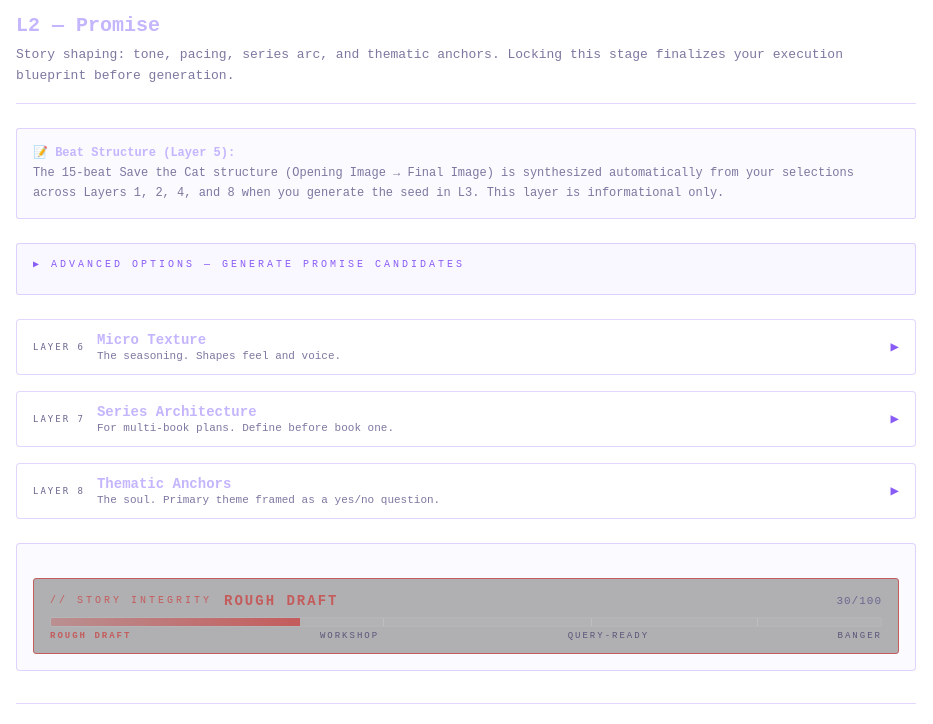
Test: L2Promise › generates and displays promise candidates when button clicked
Open advanced options
Click the text "▶ ADVANCED OPTIONS — GENERATE PROMISE CANDIDATES" at (249, 264), box [33, 259, 465, 270]
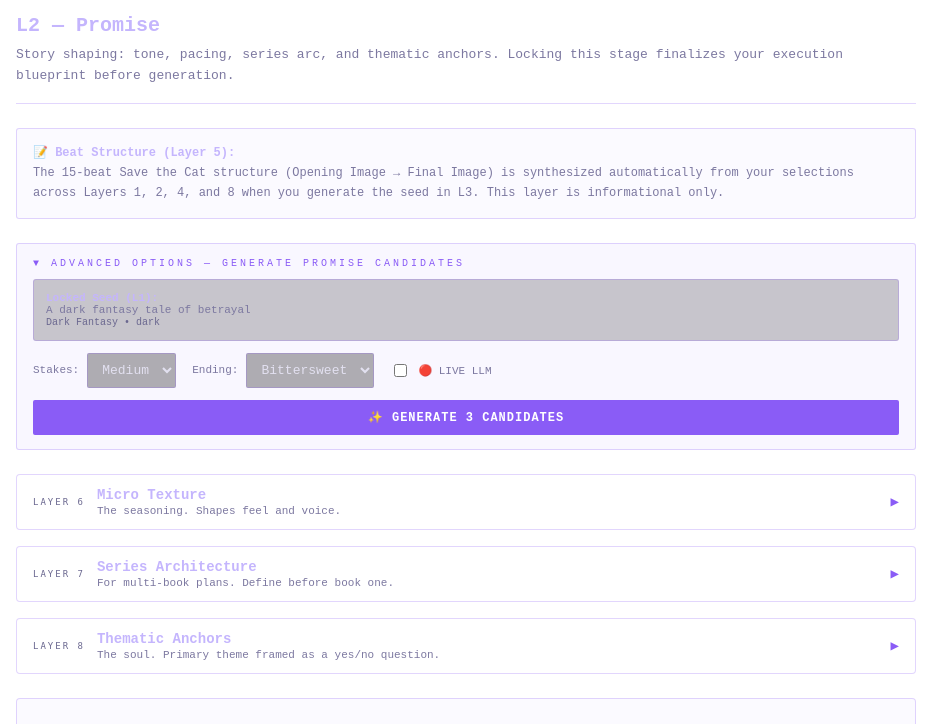
Check: the button "✨ GENERATE 3 CANDIDATES" is shown
Click generate button
Click the button "✨ GENERATE 3 CANDIDATES" at (466, 417), box [33, 400, 899, 435]
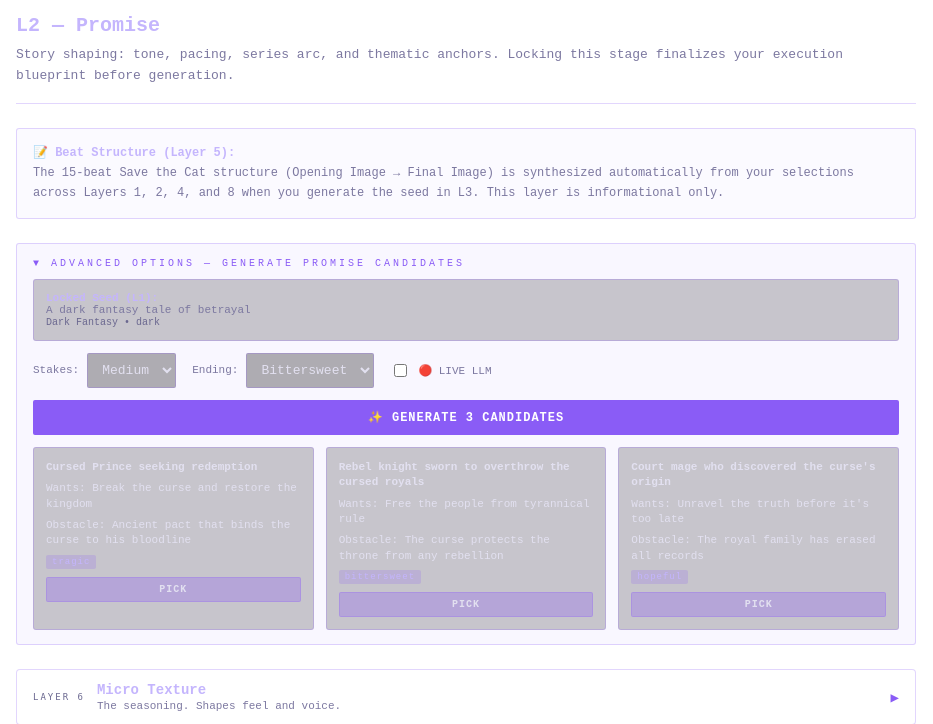
Check: the text "Cursed Prince seeking redemption" is shown, box [46, 461, 257, 473]
Check: the text "Rebel knight sworn to overthrow the cursed royals" is shown, box [339, 461, 570, 488]
Check: the text "Court mage who discovered the curse's origin" is shown, box [631, 461, 876, 488]
